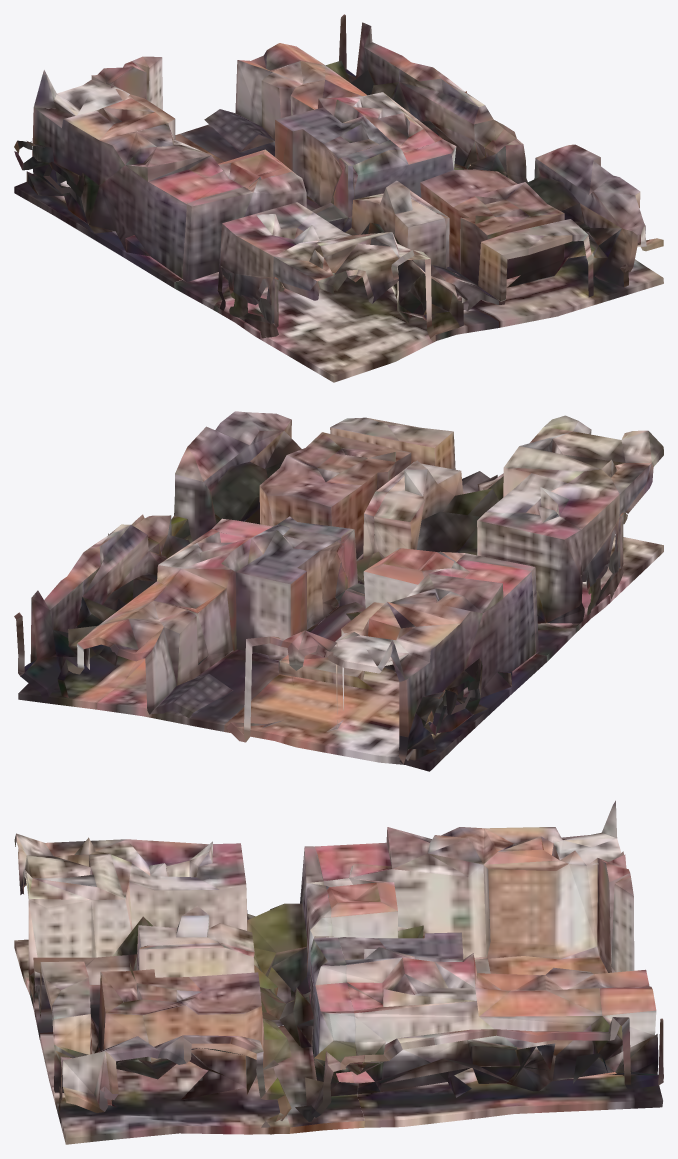
3 renders of one model, top to bottom at view 1: azimuth 30°, elevation 25°; view 2: azimuth 150°, elevation 25°; view 3: azimuth 270°, elevation 25°, orthographic. The views are drawn at different scales.
Visible parts, largest first — view 1: Mesh_0; view 2: Mesh_0; view 3: Mesh_0.
Boxes of the visible parts, x1,y1,x2,y2 form: Mesh_0: [14, 14, 663, 382]; Mesh_0: [14, 411, 663, 771]; Mesh_0: [14, 800, 663, 1144].
Size of the model in its own units: 133 by 39.32 by 165.
Materials: 1 (1 with a texture image).
